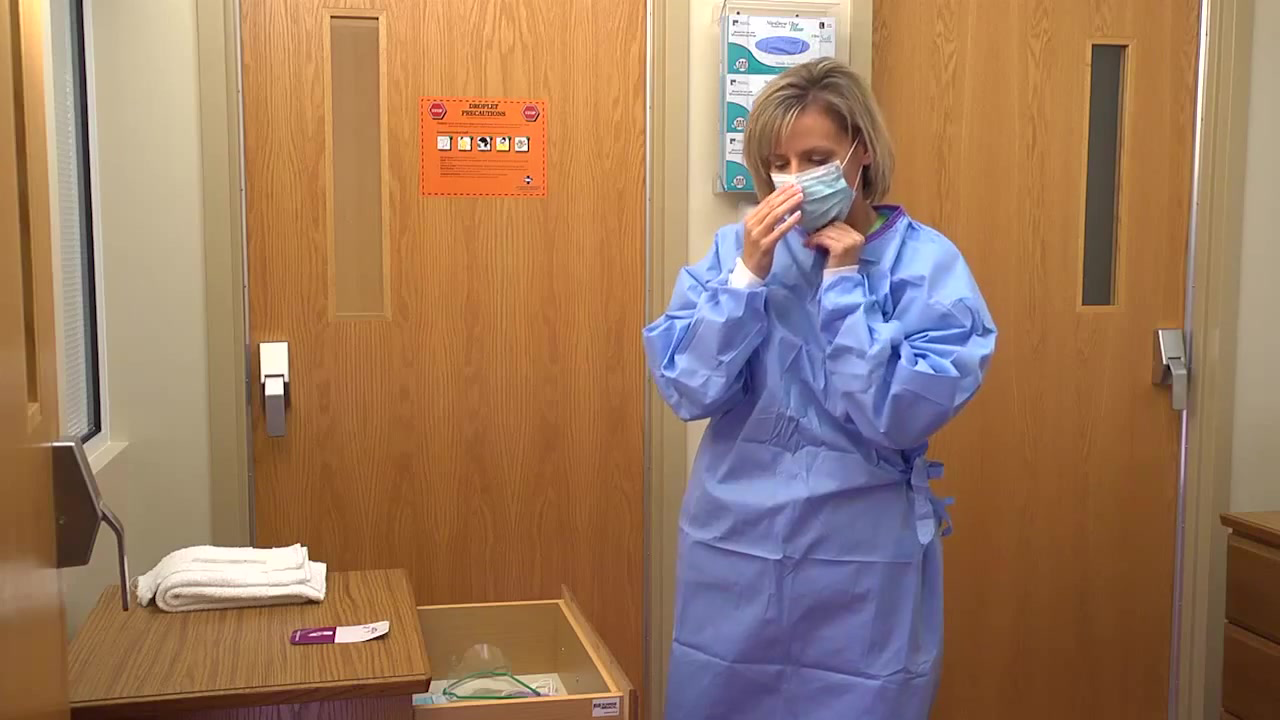Coverall: (649, 195, 966, 720)
with_mask: (750, 161, 859, 233)
